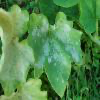Squash Powdery mildew leaf: (27, 10, 85, 99)
